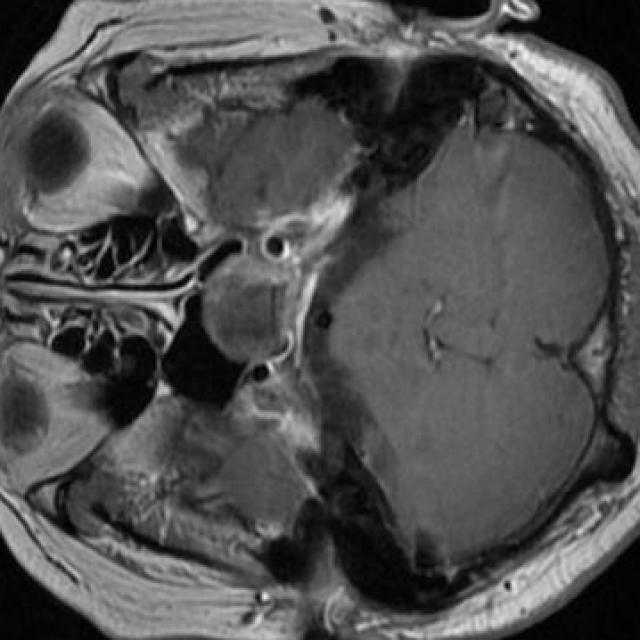pituitary: (196, 253, 291, 369)
